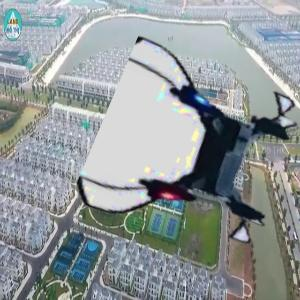drone: (100, 53, 296, 249)
